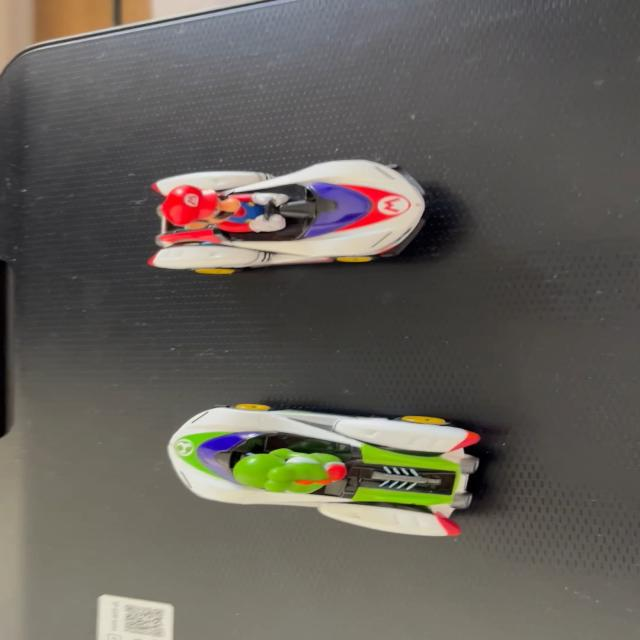mario: (128, 145, 448, 279)
yoshi: (138, 389, 505, 552)
